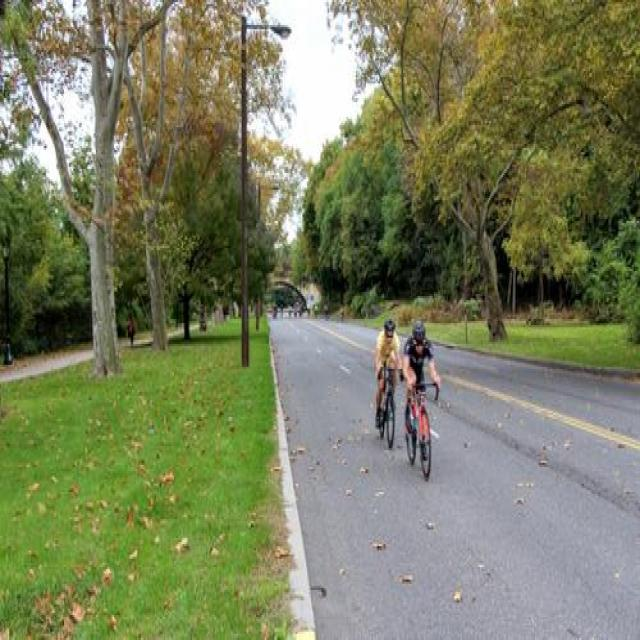bikerider: (394, 308, 446, 488), (366, 300, 398, 459)
